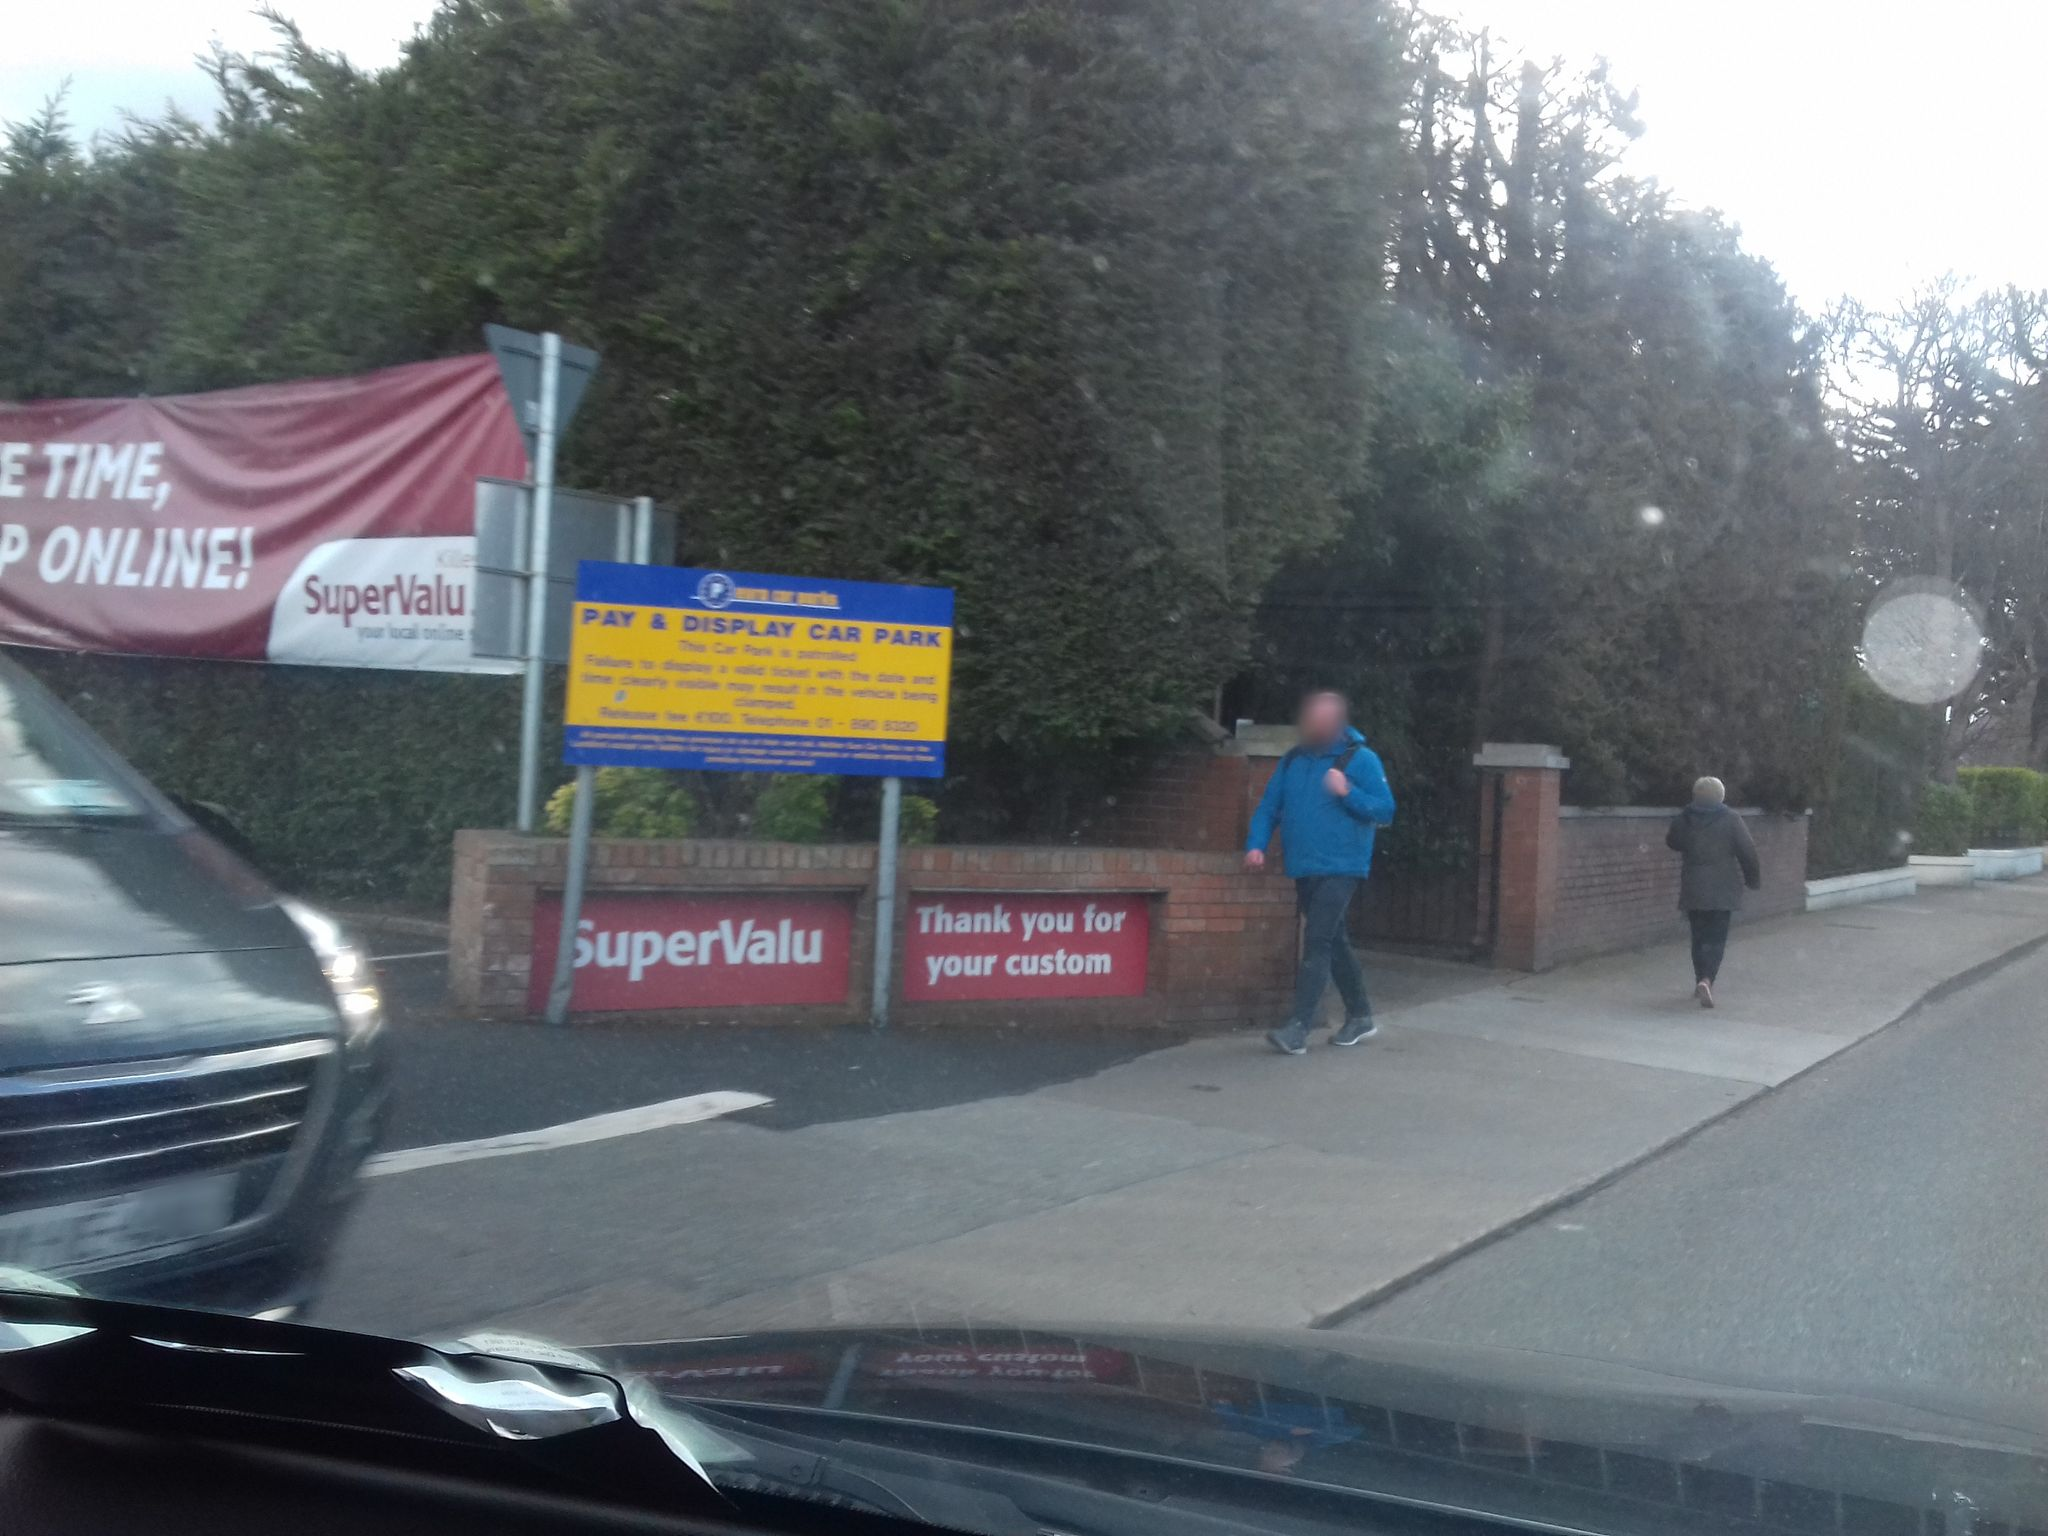vinyl banner: (2, 324, 566, 699)
